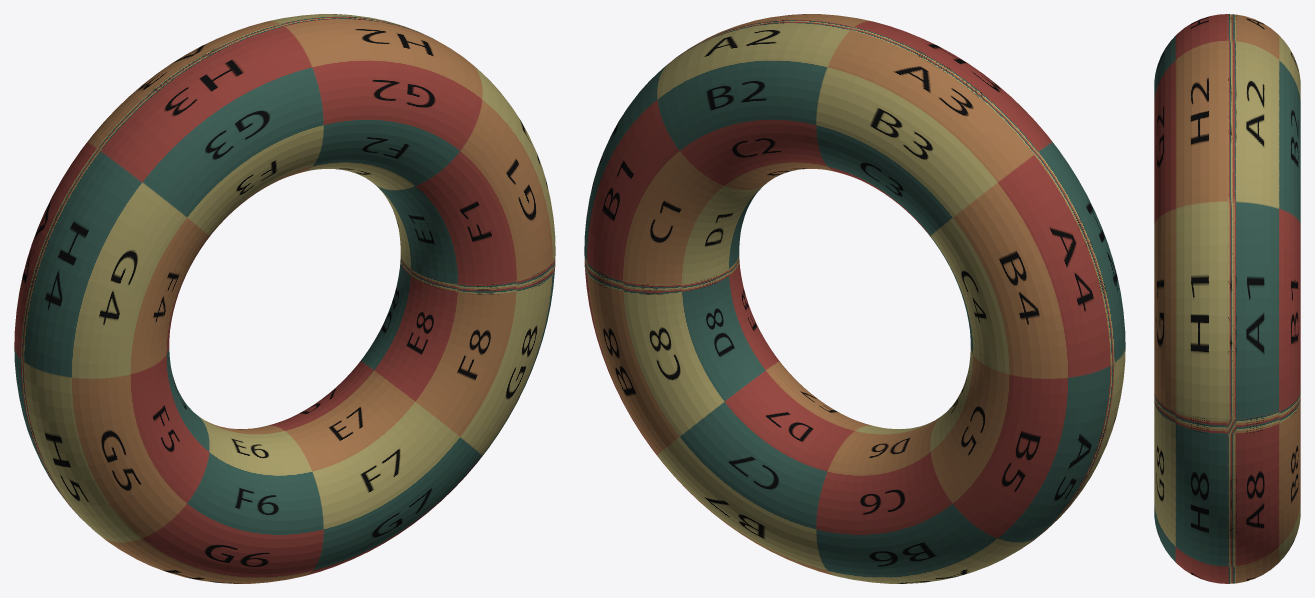
File: texture_torus_R5_r6.glb
The picture shows the model from 3 angles, left to right: view 1: azimuth 30°, elevation 25°; view 2: azimuth 150°, elevation 25°; view 3: azimuth 270°, elevation 25°; orthographic projection. The views are drawn at different scales.
Visible parts, largest first — view 1: world; view 2: world; view 3: world.
Boxes of the visible parts, bbox=[...] form: world: bbox=[14, 14, 555, 583]; world: bbox=[584, 14, 1125, 583]; world: bbox=[1154, 14, 1300, 583].
Bounding box in the file's own units: 28.44 × 28.44 × 7.32.
Materials: 1 (1 with a texture image).
